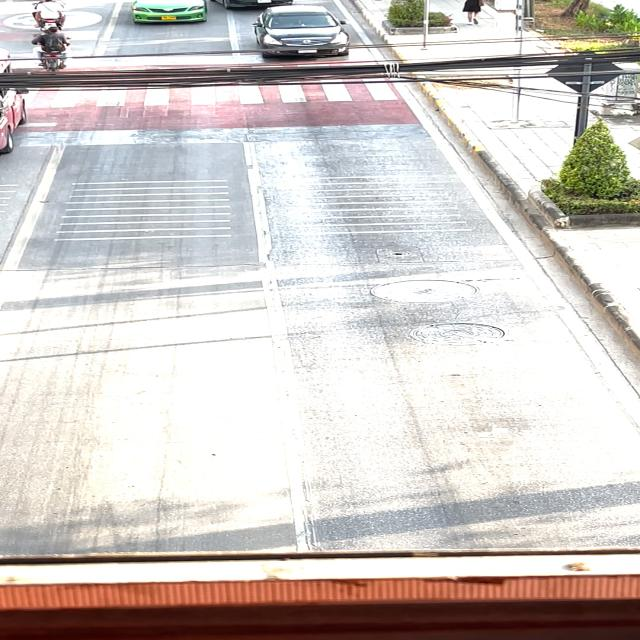car: (255, 1, 354, 58), (129, 0, 213, 25)
